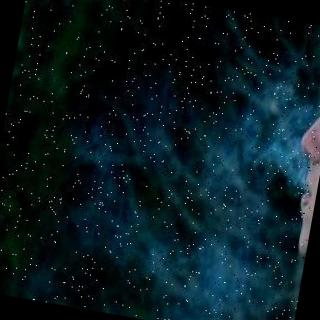smoke: (153, 80, 310, 320)
